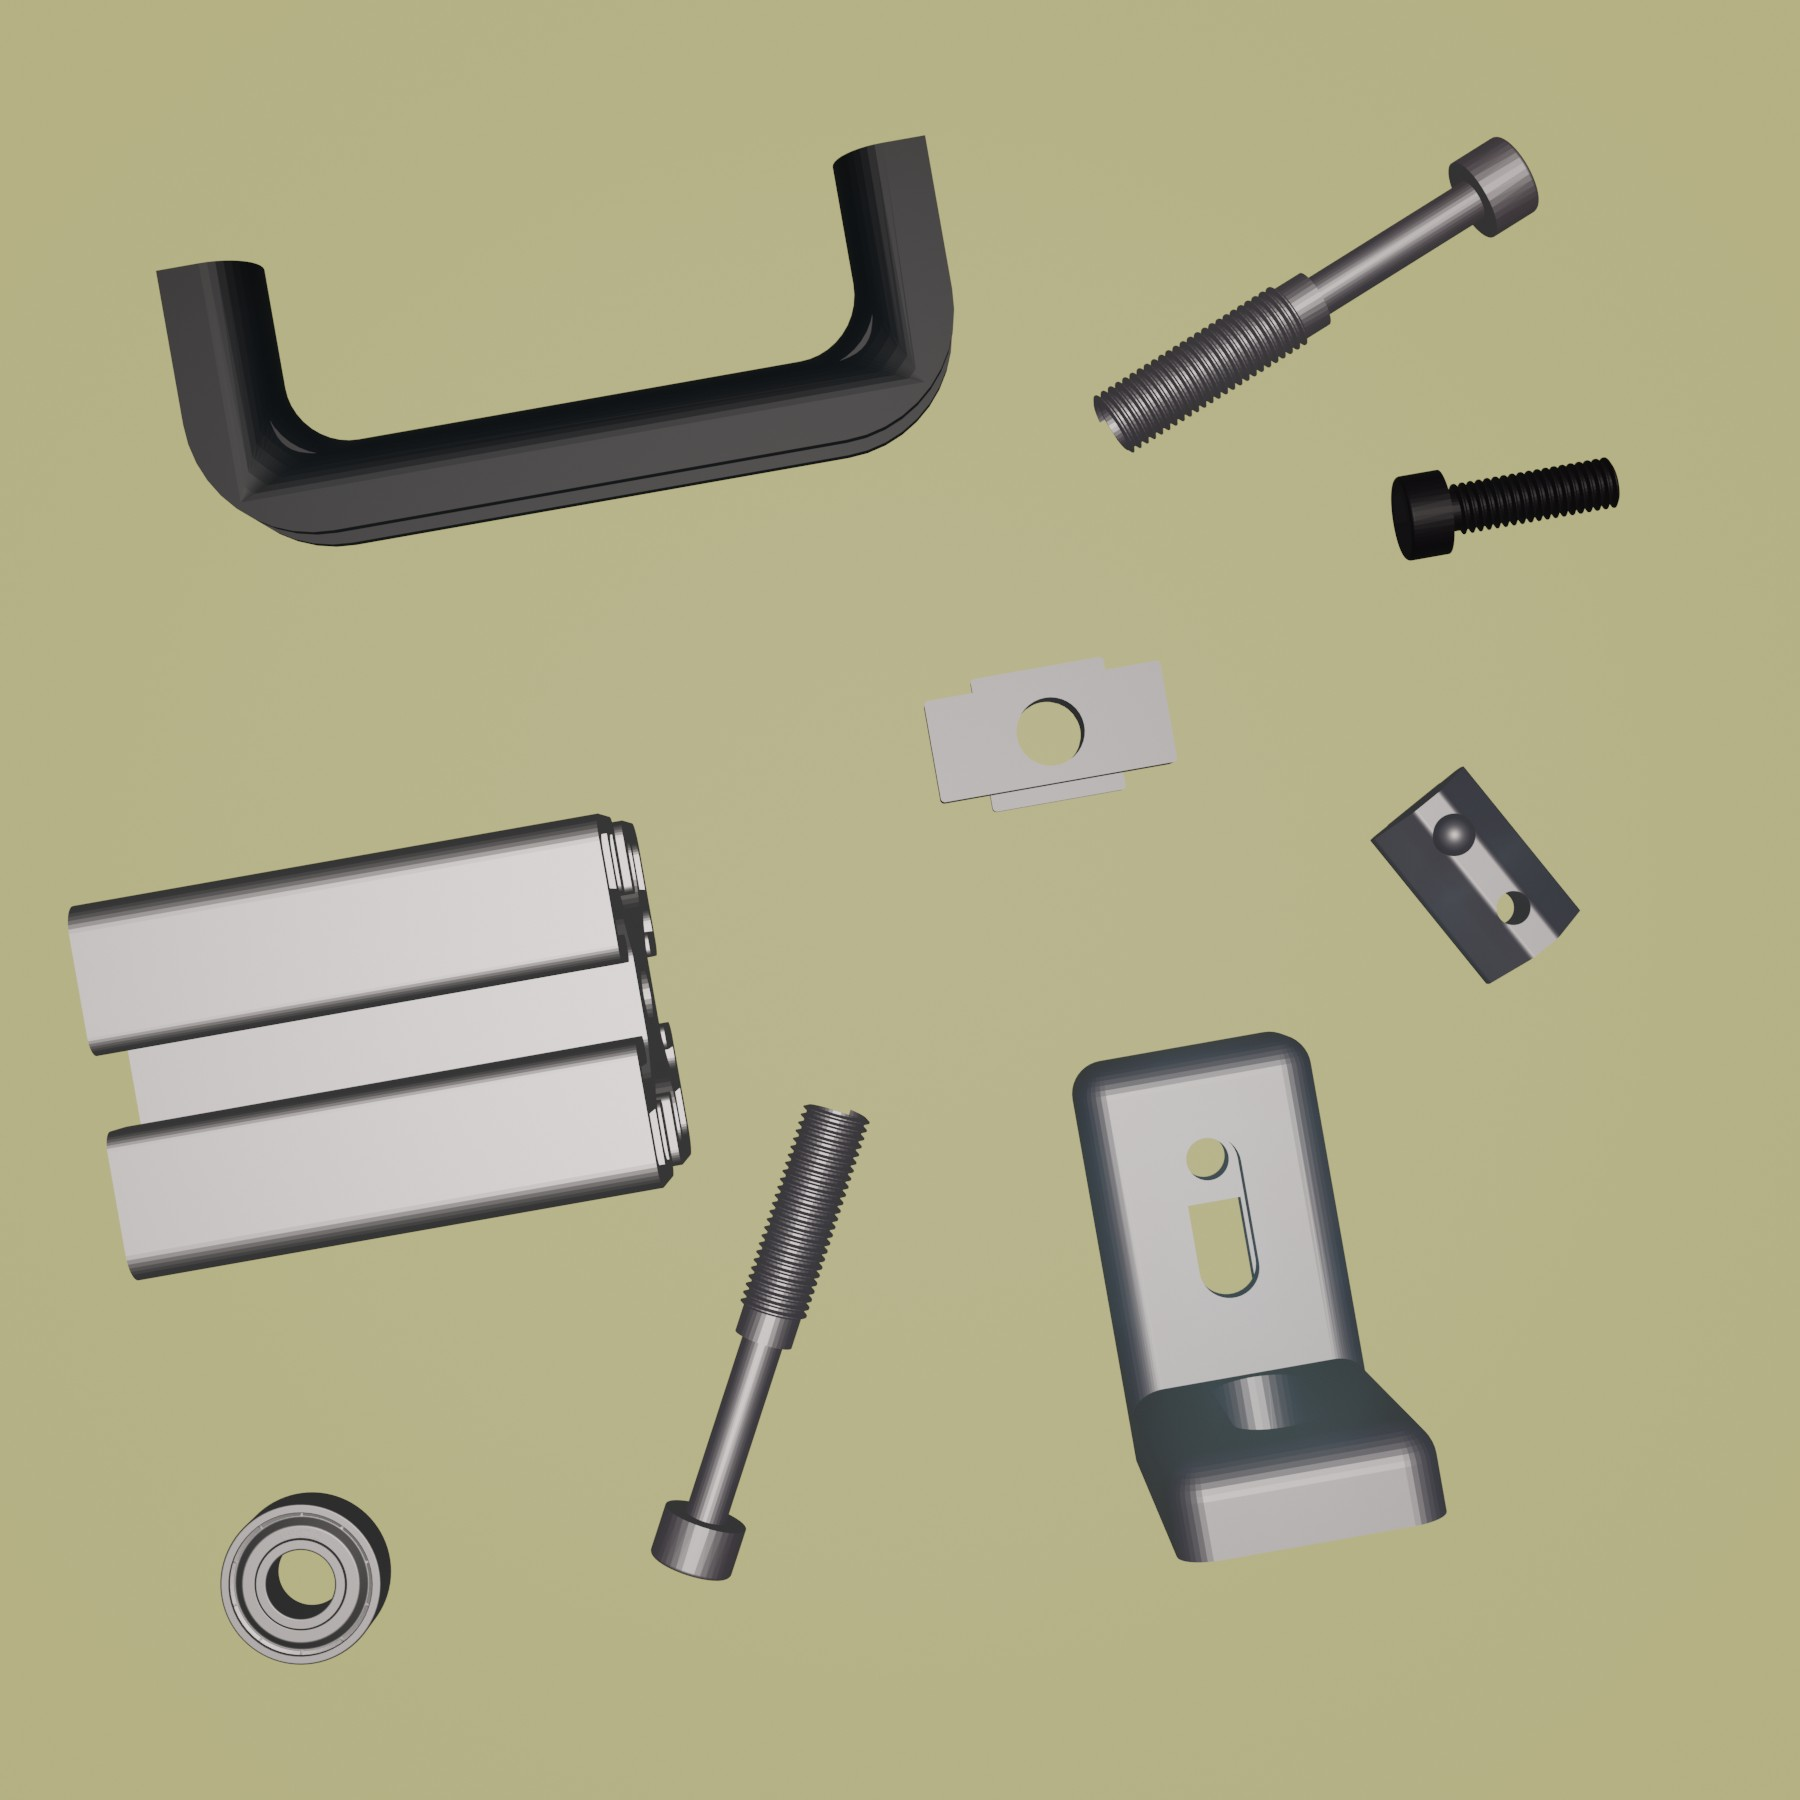Aluminium Extension: (66, 808, 694, 1286)
Ball Bearing: (219, 1488, 392, 1668)
Multiwinkel: (1070, 1030, 1447, 1564)
Pull Handle: (152, 129, 954, 551)
Shoulder Socket Head Cap Screw: (1090, 134, 1541, 457), (648, 1098, 869, 1586)
Socket Head Cap Screw: (1390, 450, 1624, 564)
T Nut Square: (920, 654, 1180, 818)
T Spring Nut: (1370, 765, 1581, 987)
